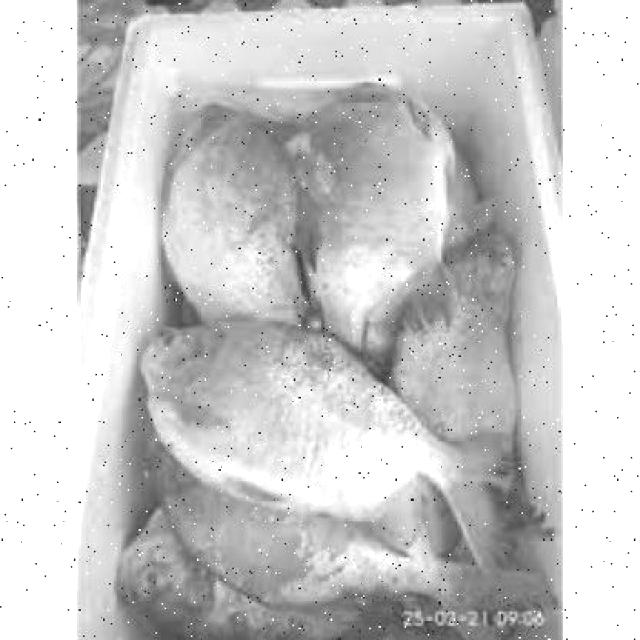ikan-pacu: (132, 318, 480, 531), (298, 76, 460, 330), (153, 100, 296, 331)
